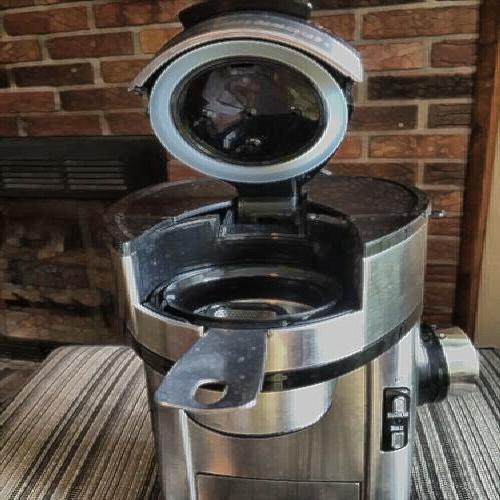coffee_maker: (108, 39, 441, 495)
